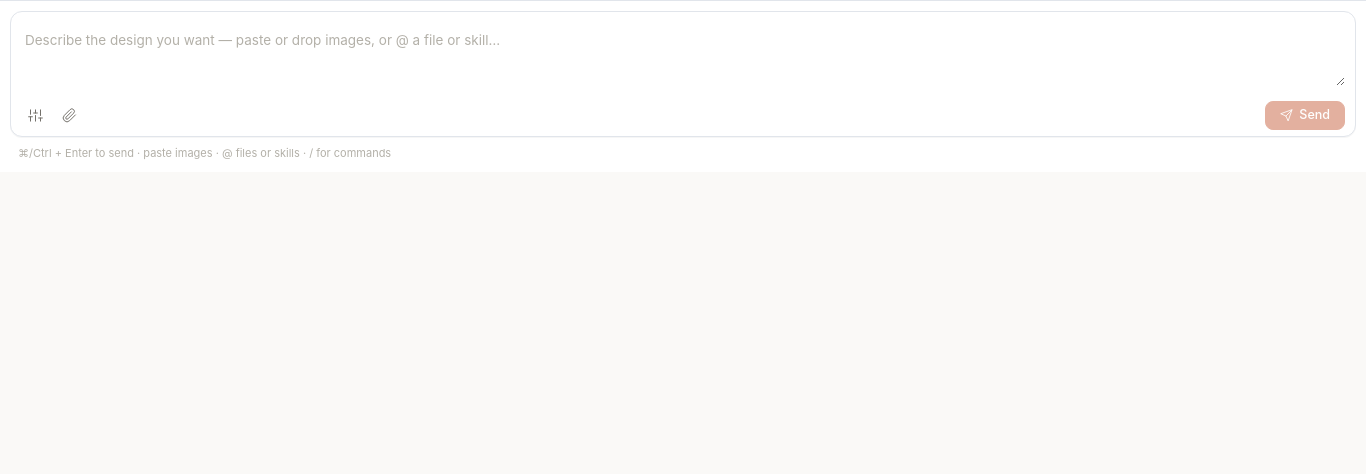
Scenario: ChatComposer context pickers › opens the @ panel even when every source is empty
This screenshot has width=1366, height=474.
Replace the text in the text box with test id "chat-composer-input" with "@" at (683, 56), box [21,26,1345,86]
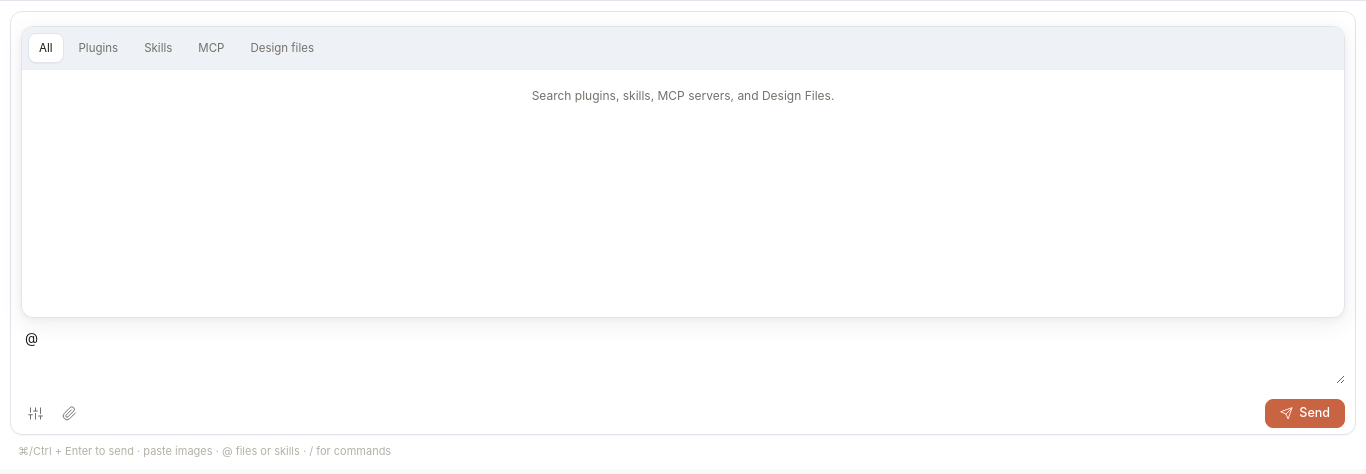
Result: the element with test id "mention-popover" is shown at [21,26,1345,318]
Result: the tab "Plugins" is shown at [68,33,129,63]
Result: the tab "Skills" is shown at [133,33,183,63]
